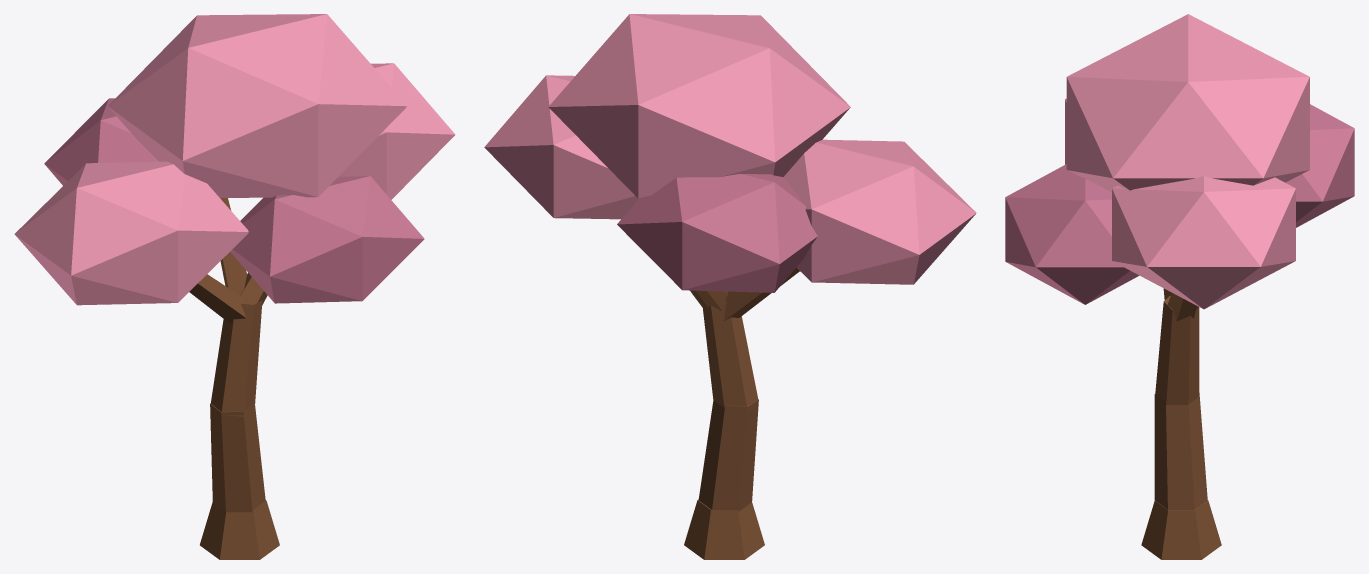
Rendered from blossom-tree.glb.
3 renders of one model, left to right at view 1: azimuth 30°, elevation 25°; view 2: azimuth 150°, elevation 25°; view 3: azimuth 270°, elevation 25°, orthographic.
Visible parts, largest first — view 1: blossom-tree; view 2: blossom-tree; view 3: blossom-tree.
Boxes of the visible parts, x1,y1,x2,y2 form: blossom-tree: [14, 14, 455, 559]; blossom-tree: [484, 14, 976, 559]; blossom-tree: [1005, 14, 1354, 559].
Size of the model in its own units: 4.22 by 5 by 3.12.
